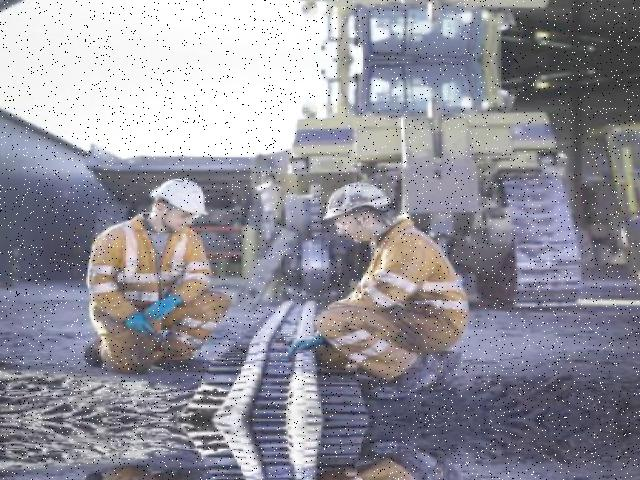Helmet: (318, 177, 394, 225), (143, 172, 212, 222)
